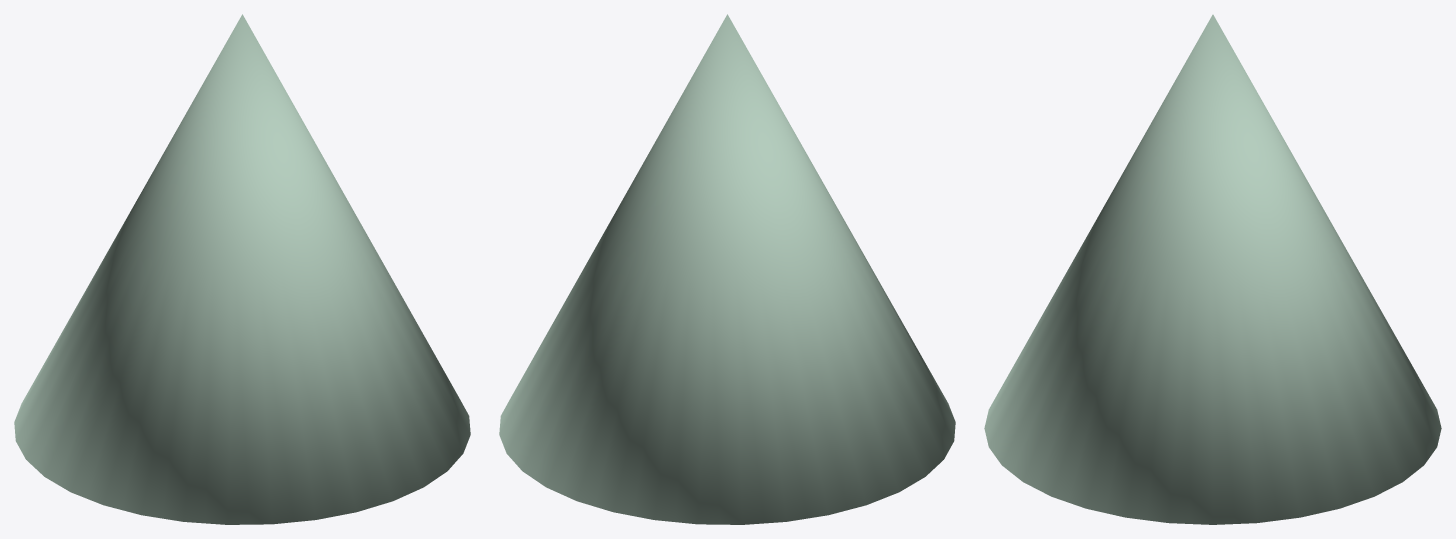
The picture shows the model from 3 angles, left to right: view 1: azimuth 30°, elevation 25°; view 2: azimuth 150°, elevation 25°; view 3: azimuth 270°, elevation 25°; orthographic projection.
Parts seen in each view (by area): view 1: Cone; view 2: Cone; view 3: Cone.
Part boxes in pixels (bbox=[...]): Cone: bbox=[14, 14, 470, 524]; Cone: bbox=[499, 14, 955, 524]; Cone: bbox=[984, 14, 1441, 524].
Bounding box in the file's own units: 2 × 2 × 2.
